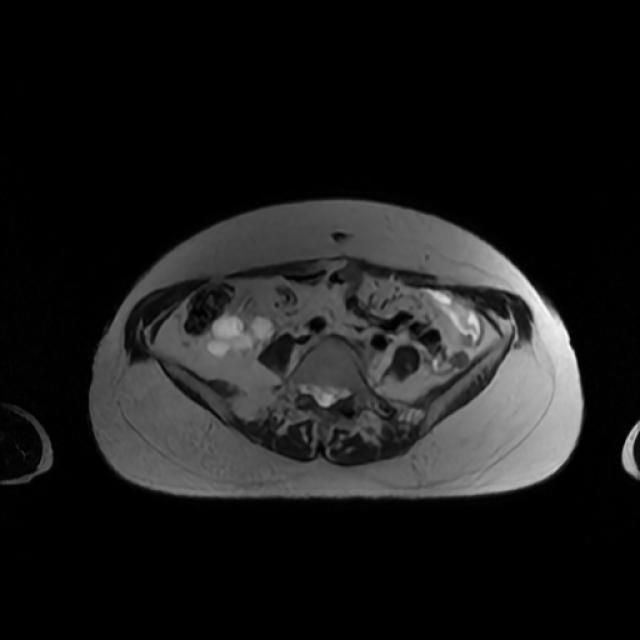sag: (205, 311, 277, 355)
